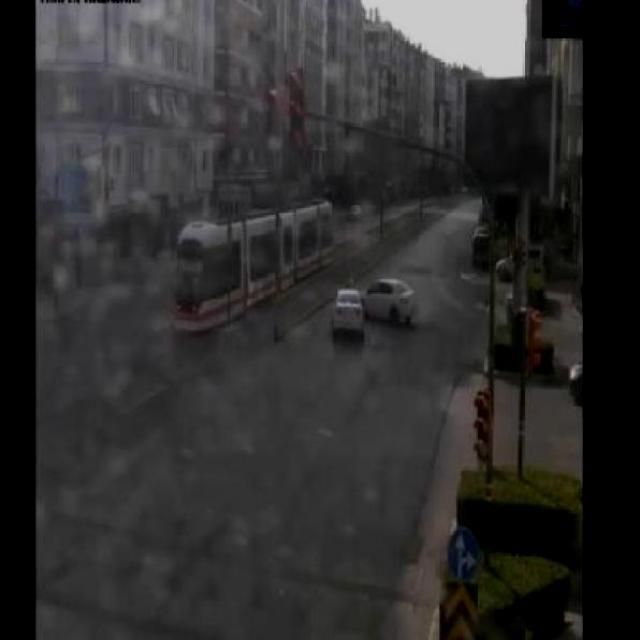accident: (329, 270, 418, 338)
